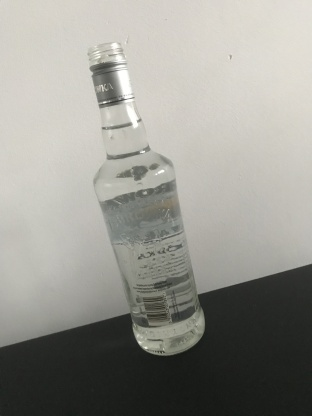nakretka: (85, 40, 136, 110)
